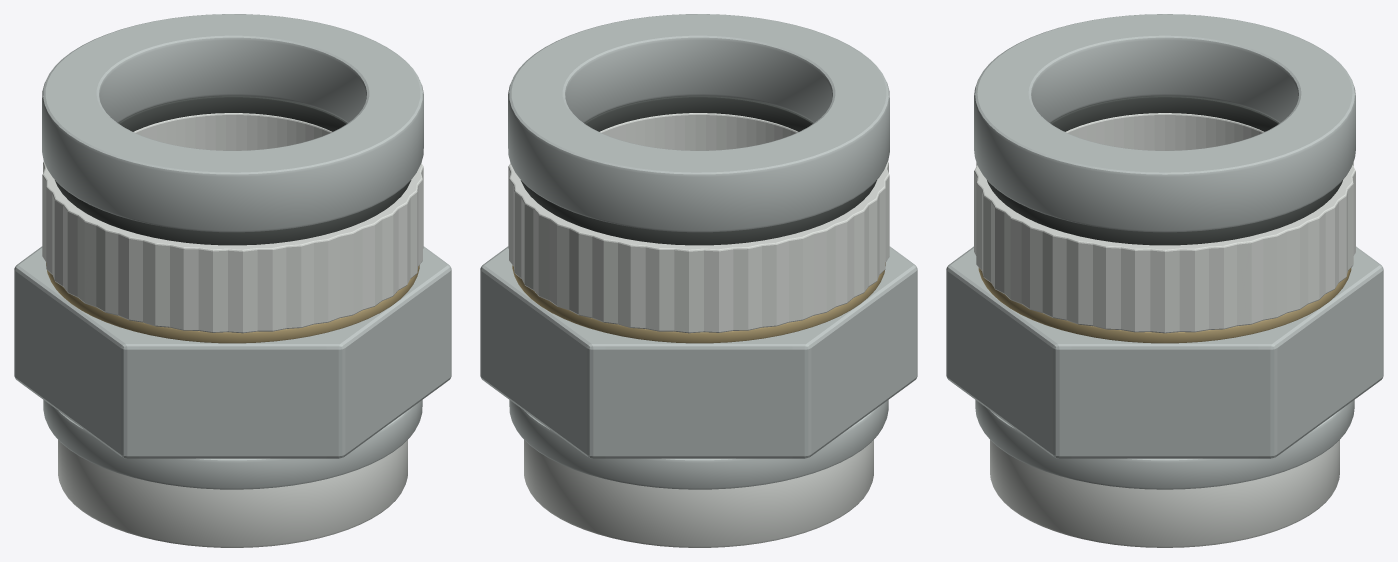
File: nozzle-adapter.glb
3 views of the same model, side by side, from view 1: azimuth 30°, elevation 25°; view 2: azimuth 150°, elevation 25°; view 3: azimuth 270°, elevation 25° (orthographic).
Visible parts, largest first — view 1: 07 Upper retaining sleeve, 03 Wrench hexagonal gland, 05 Grip sleeve, 01 Lower seating ferrule, 02 Turned ferrule shoulder, 06 Sealing ring, 04 Identification band; view 2: 07 Upper retaining sleeve, 03 Wrench hexagonal gland, 05 Grip sleeve, 01 Lower seating ferrule, 02 Turned ferrule shoulder, 06 Sealing ring, 04 Identification band; view 3: 07 Upper retaining sleeve, 03 Wrench hexagonal gland, 05 Grip sleeve, 01 Lower seating ferrule, 02 Turned ferrule shoulder, 06 Sealing ring, 04 Identification band.
Part boxes in pixels (x1,y1,x2,y2): 07 Upper retaining sleeve: (42,14,423,232); 03 Wrench hexagonal gland: (14,246,451,458); 05 Grip sleeve: (42,113,423,333); 01 Lower seating ferrule: (58,440,407,547); 02 Turned ferrule shoulder: (43,400,422,489); 06 Sealing ring: (55,95,411,245); 04 Identification band: (46,262,419,343); 07 Upper retaining sleeve: (508,14,889,232); 03 Wrench hexagonal gland: (480,246,917,458); 05 Grip sleeve: (508,113,889,333); 01 Lower seating ferrule: (524,440,873,547); 02 Turned ferrule shoulder: (509,400,888,489); 06 Sealing ring: (520,95,876,245); 04 Identification band: (512,262,885,343); 07 Upper retaining sleeve: (974,14,1355,232); 03 Wrench hexagonal gland: (946,246,1383,458); 05 Grip sleeve: (974,113,1355,333); 01 Lower seating ferrule: (990,440,1339,547); 02 Turned ferrule shoulder: (975,400,1354,489); 06 Sealing ring: (987,95,1342,245); 04 Identification band: (978,267,1351,343).
Bounding box in the file's own units: 0.0145 × 0.016 × 0.0166.
